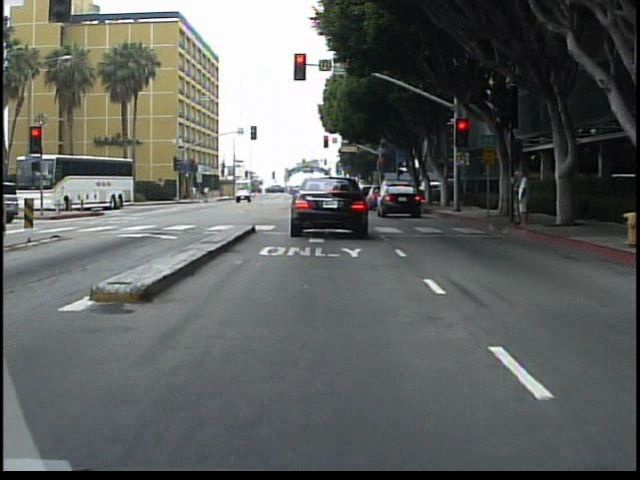person: (513, 169, 533, 231)
